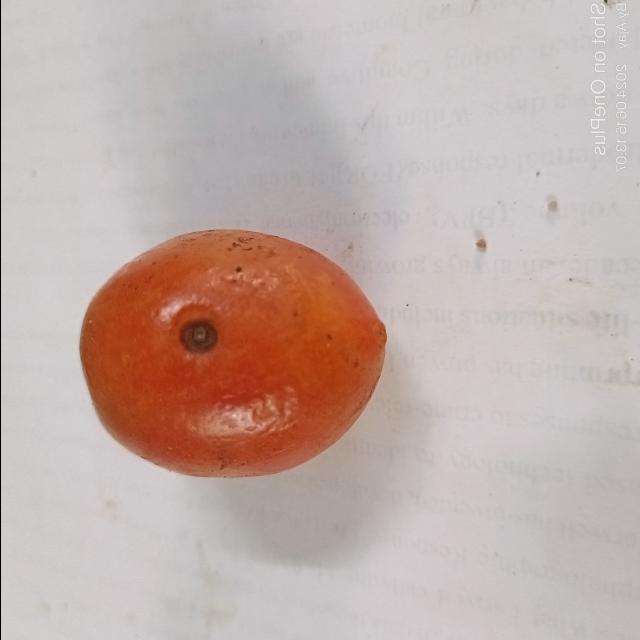Bacterial_Spot: (176, 318, 222, 356)
